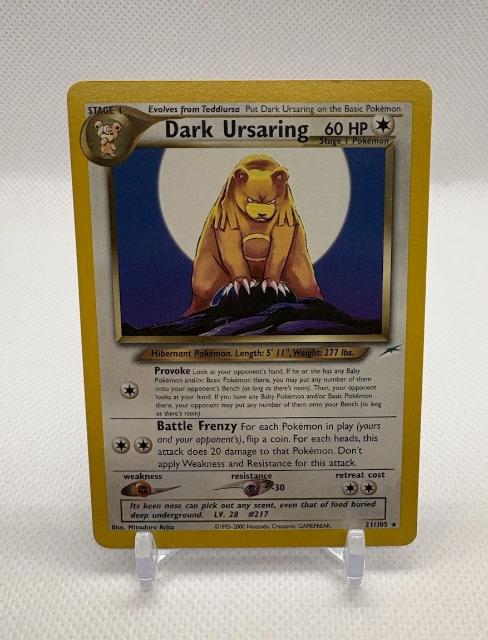Card: (61, 73, 438, 554)
Name: (157, 116, 314, 148)
